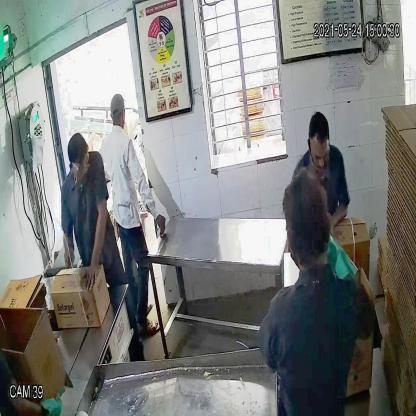goggles: (67, 152, 92, 175)
